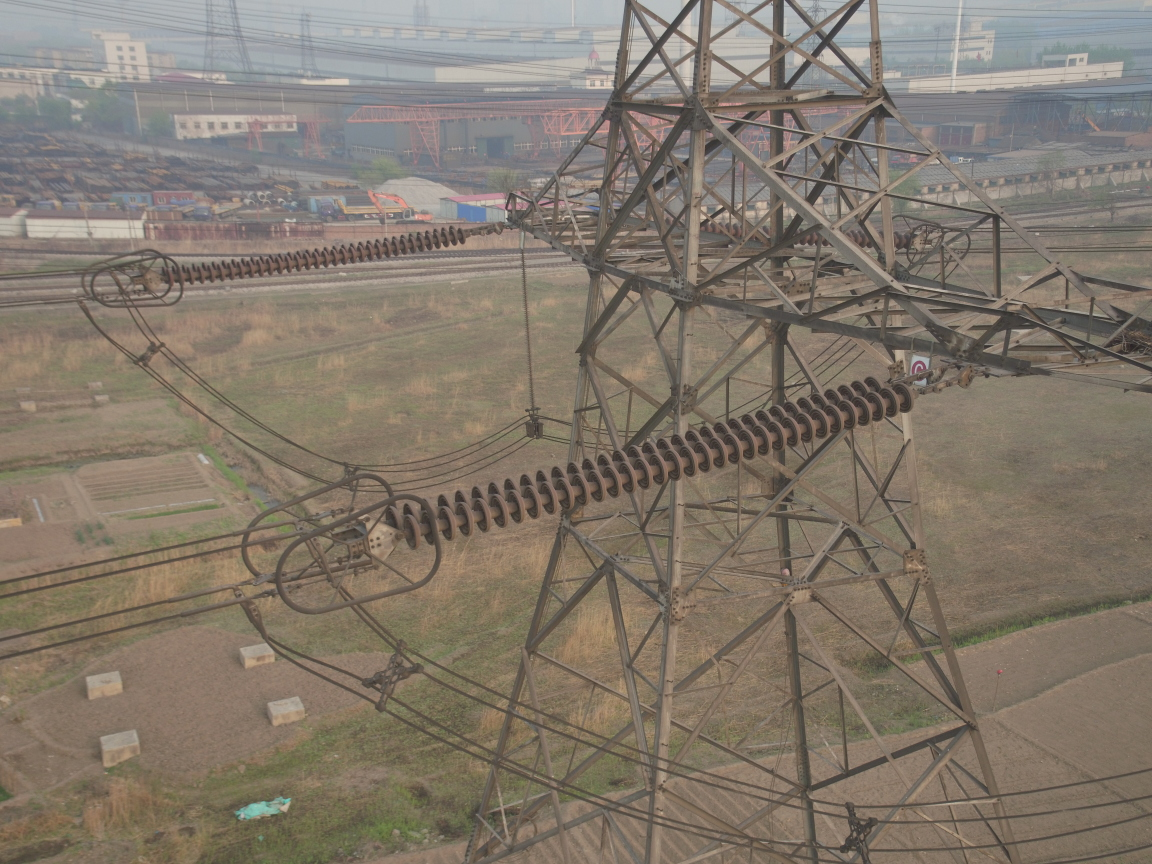insulator: (381, 367, 943, 553), (158, 215, 489, 293)
